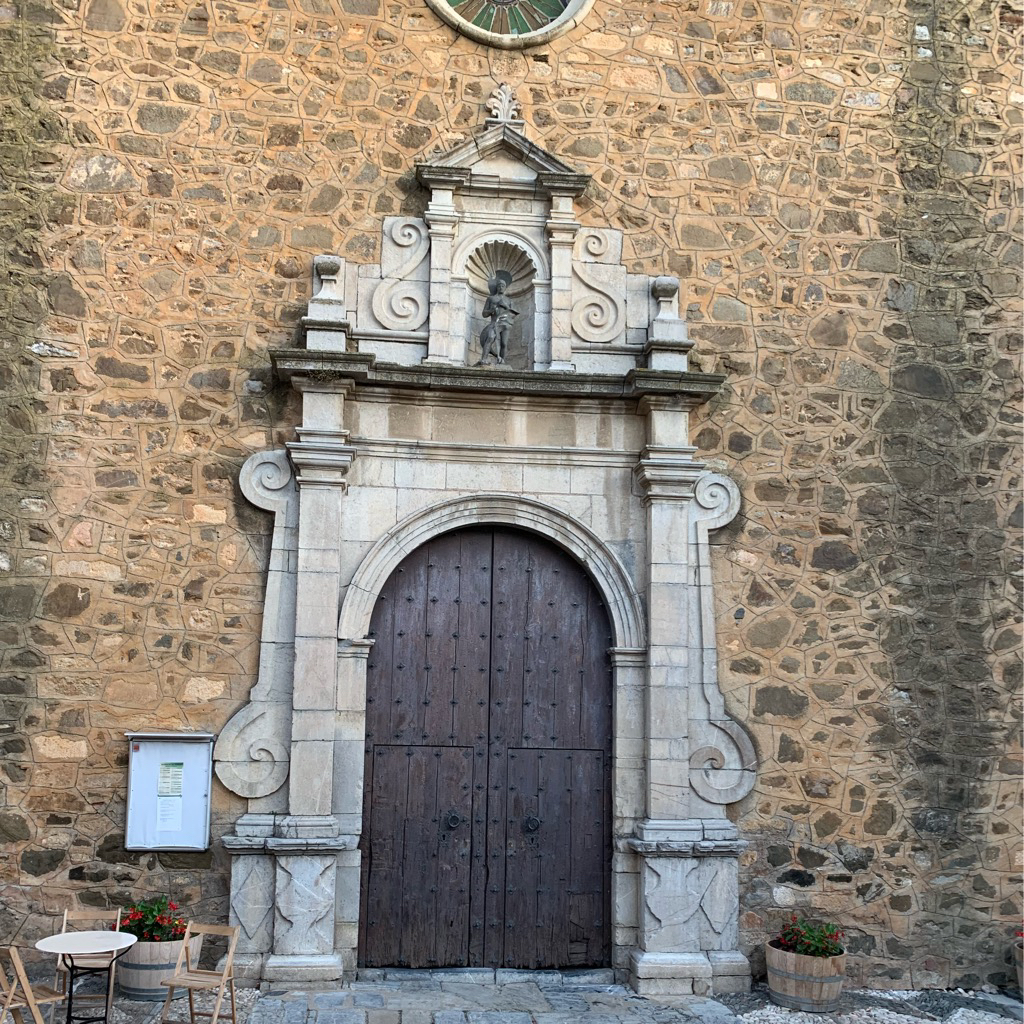arco-medio-punto: (352, 511, 628, 682)
fronton: (415, 120, 581, 190)
